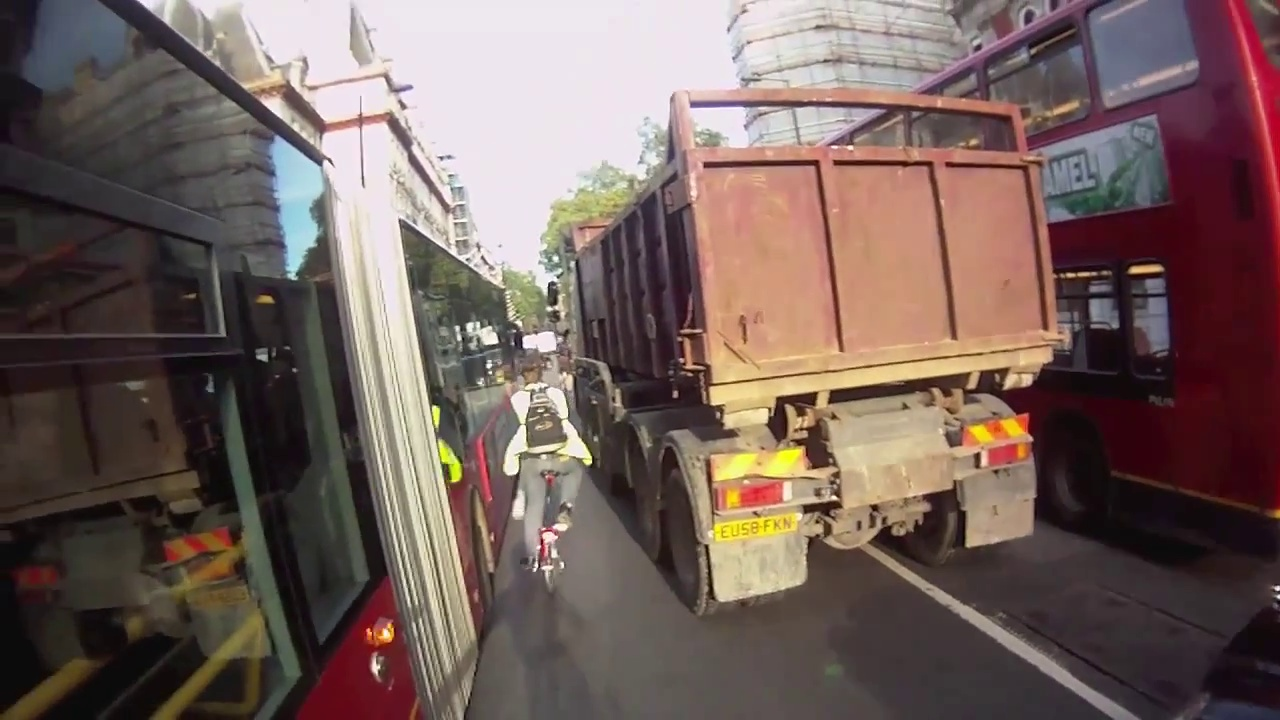cyclist_back: (499, 348, 593, 603)
